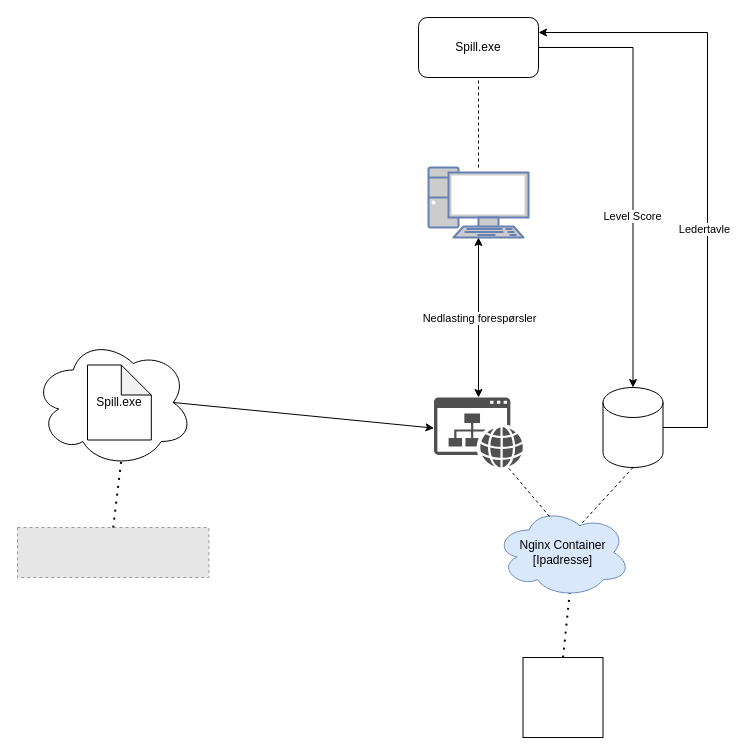
Some shapes in this 747 by 755 pixel diagram are drawn without their labels. Grey dashed boxes stand in for pictures. The box of each missing label's shape, as (x1, y1, x2, y2) in pixels:
Bruker datamaskin: (427, 166, 529, 238)
Container tjener: (522, 656, 603, 738)
